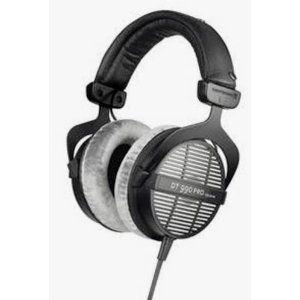headphones: (66, 5, 245, 247)
